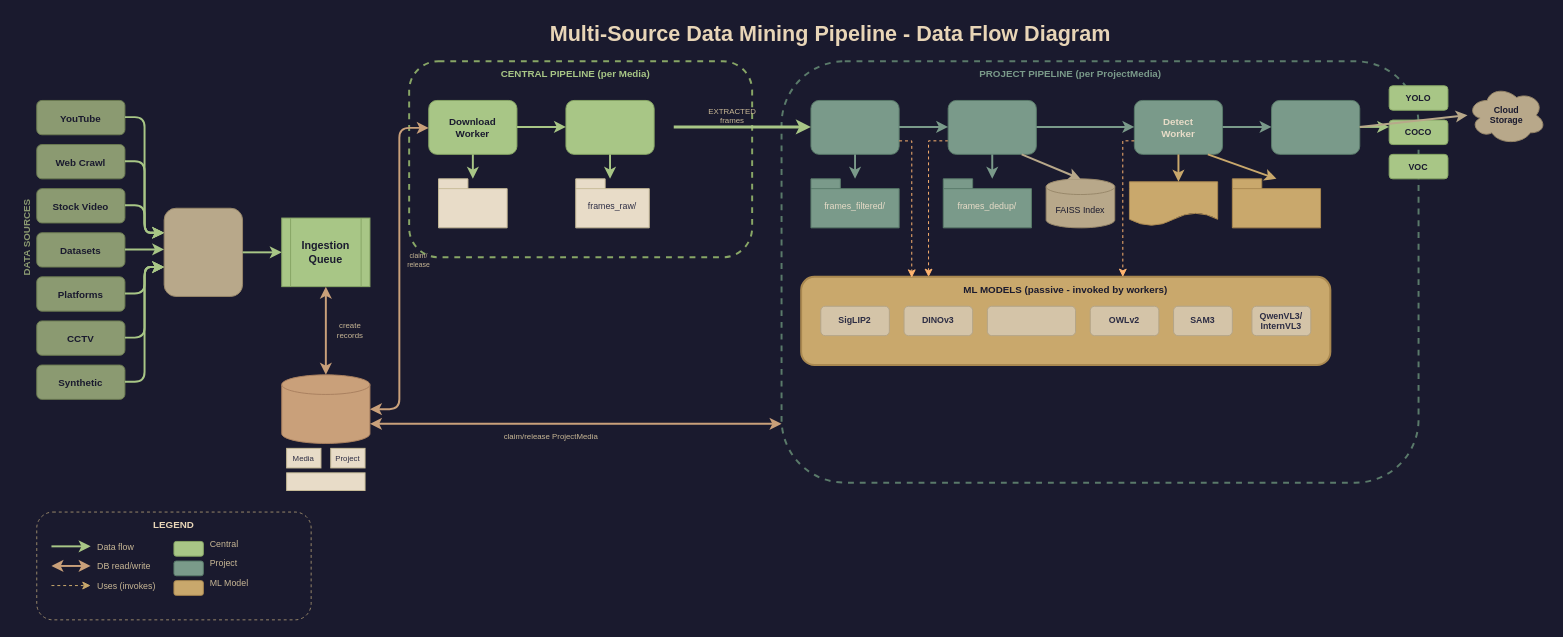
Some shapes in this 1563 by 637 pixel diagram are drawn without their labels. The shapes that lost their labels are listed below. From the top down, each one's box as (x1, y1, x2, y2) in pixels, then its label:
(565, 99, 654, 154): Extract Worker
(810, 99, 899, 154): Filter Worker
(947, 99, 1036, 154): Cross-Dedup Worker
(1271, 99, 1360, 154): VLM Judge Worker
(438, 178, 507, 228): videos/
(1128, 181, 1218, 226): annotations.json
(1231, 178, 1321, 228): visualizations/
(163, 207, 243, 296): Source Adapters
(986, 305, 1076, 336): GroundingDINO
(281, 374, 370, 443): PostgreSQL
(286, 472, 365, 490): ProjMedia
